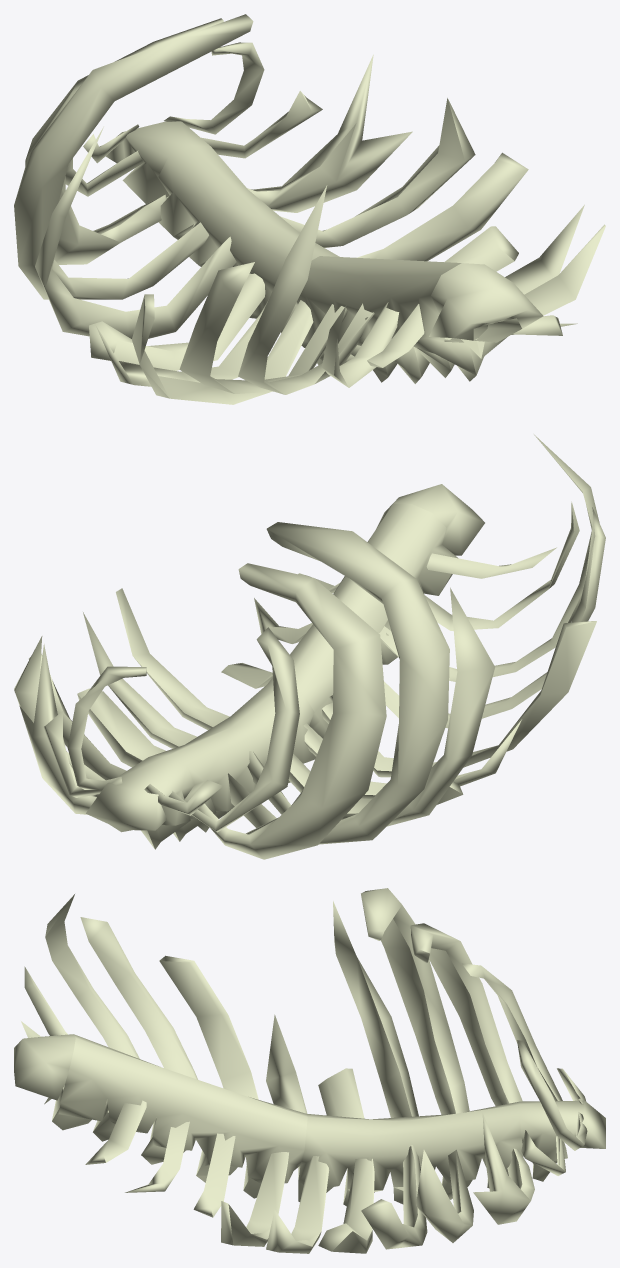
The model's file is T_broken_rib_2.fbx.
3 renders of one model, top to bottom at view 1: azimuth 30°, elevation 25°; view 2: azimuth 150°, elevation 25°; view 3: azimuth 270°, elevation 25°, orthographic. The views are drawn at different scales.
Parts seen in each view (by area): view 1: Cylinder; view 2: Cylinder; view 3: Cylinder.
Boxes of the visible parts, left/top/right/bottom form: Cylinder: left=14, top=14, right=605, bottom=404; Cylinder: left=14, top=434, right=605, bottom=859; Cylinder: left=14, top=888, right=605, bottom=1253.
Bounding box in the file's own units: 8715 × 5501 × 10799.
